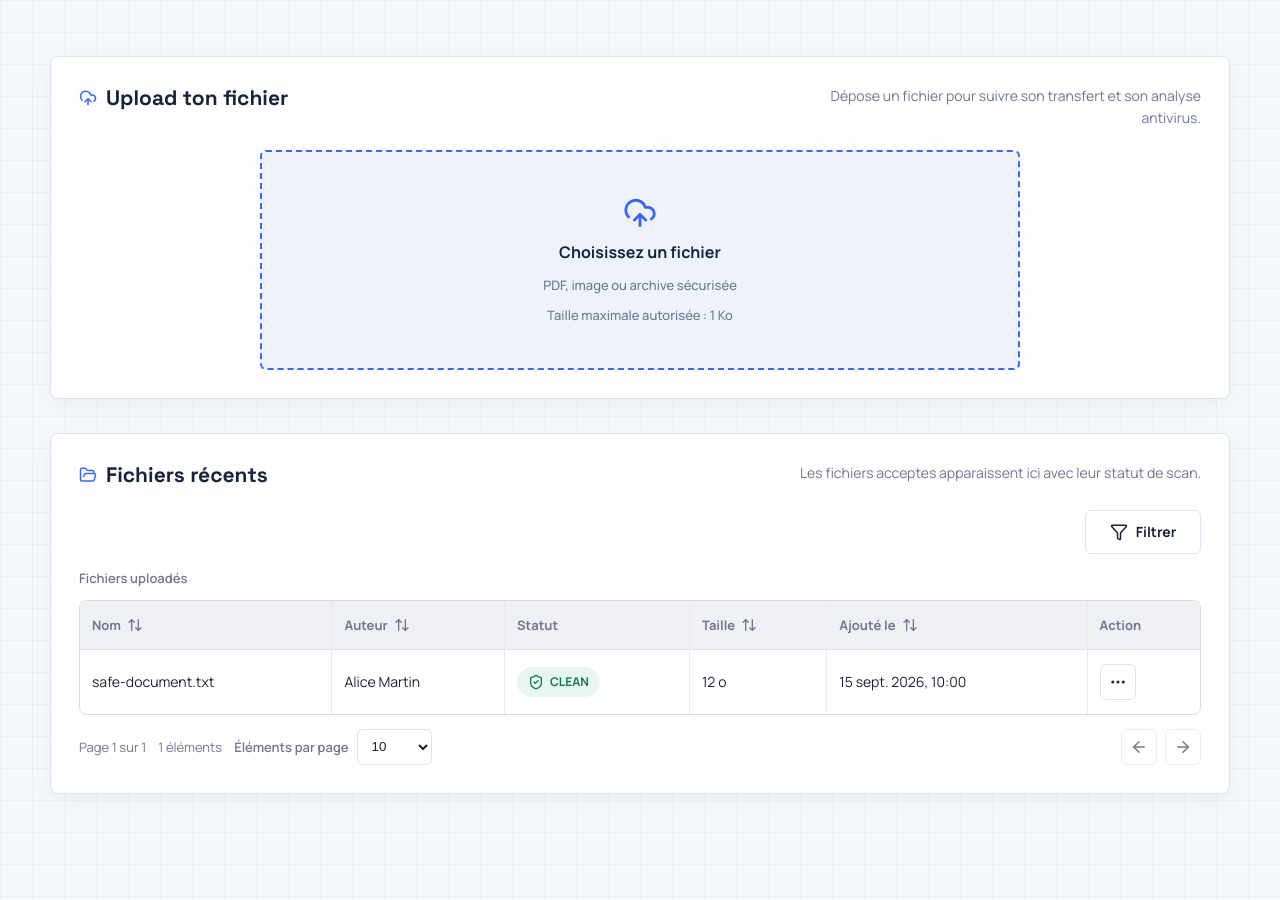
Test: DashboardPage › opens the row action menu and streams a clean file or deletes it
Expected: the column heading "Action" is shown, x1=1088 y1=601 x2=1200 y2=650
Click the button named "Actions pour safe-document.txt" at (1118, 682), box x1=1100 y1=664 x2=1136 y2=700
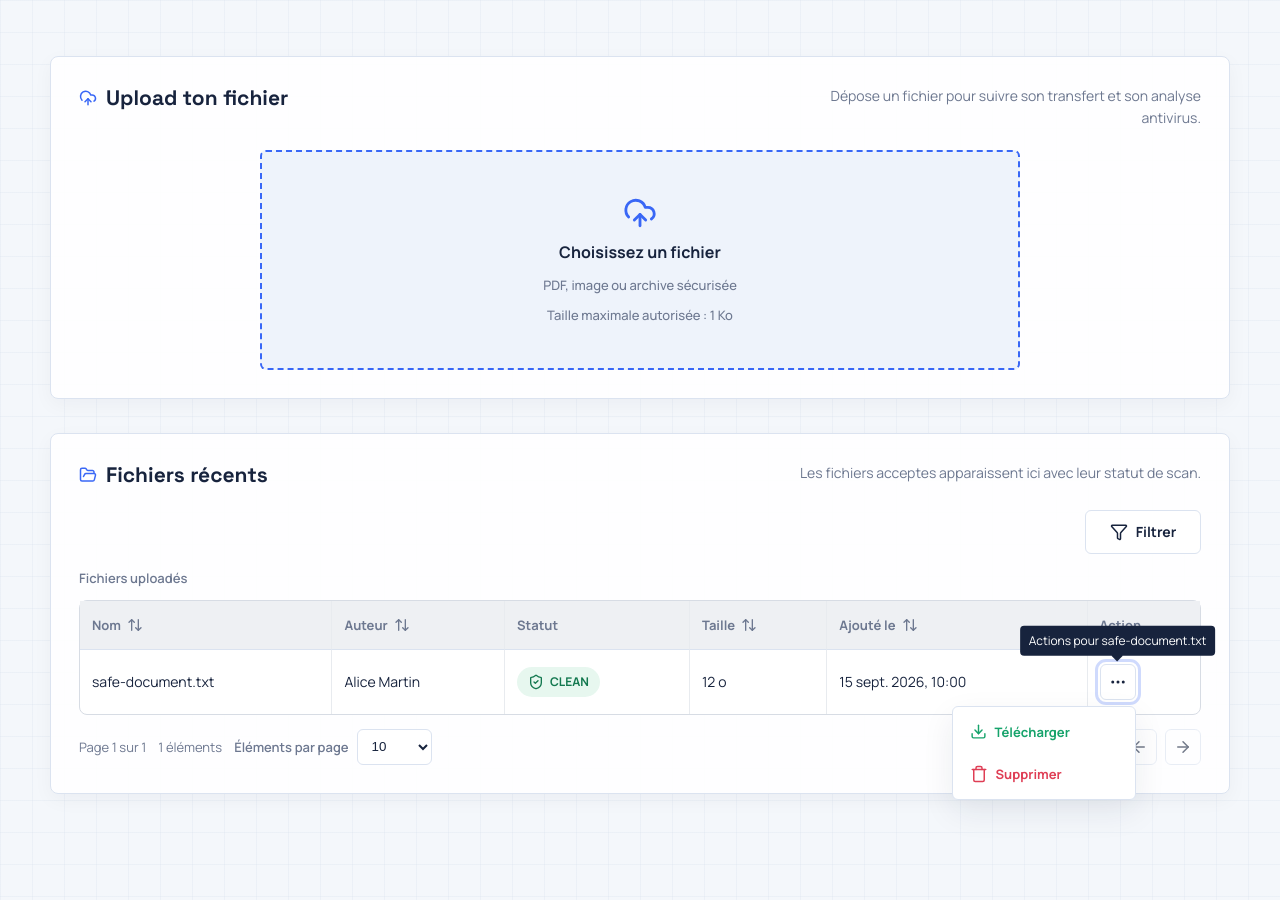
Click the menu item "Supprimer" at (1044, 774), box x1=958 y1=755 x2=1128 y2=793
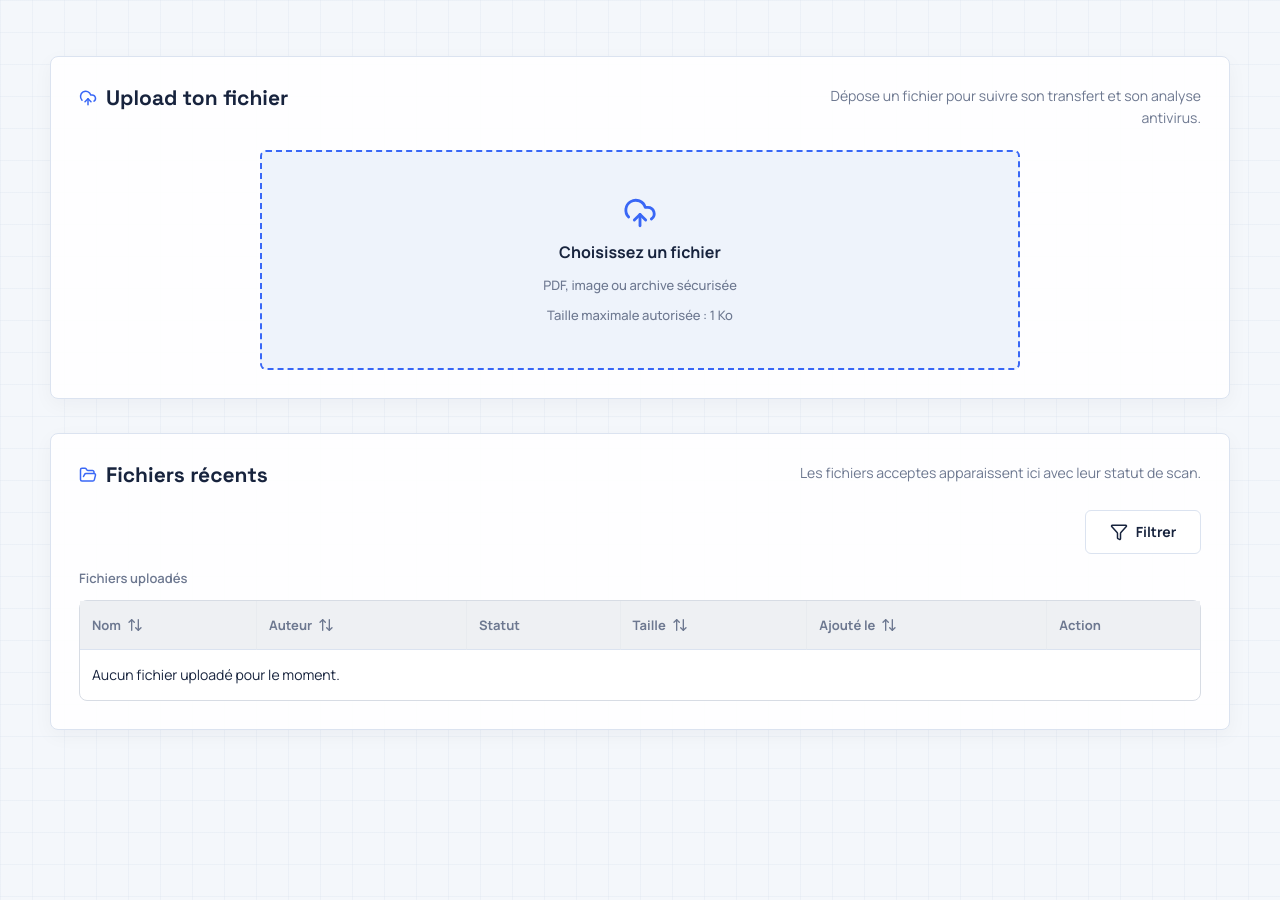
Result: the text "safe-document.txt" is gone
